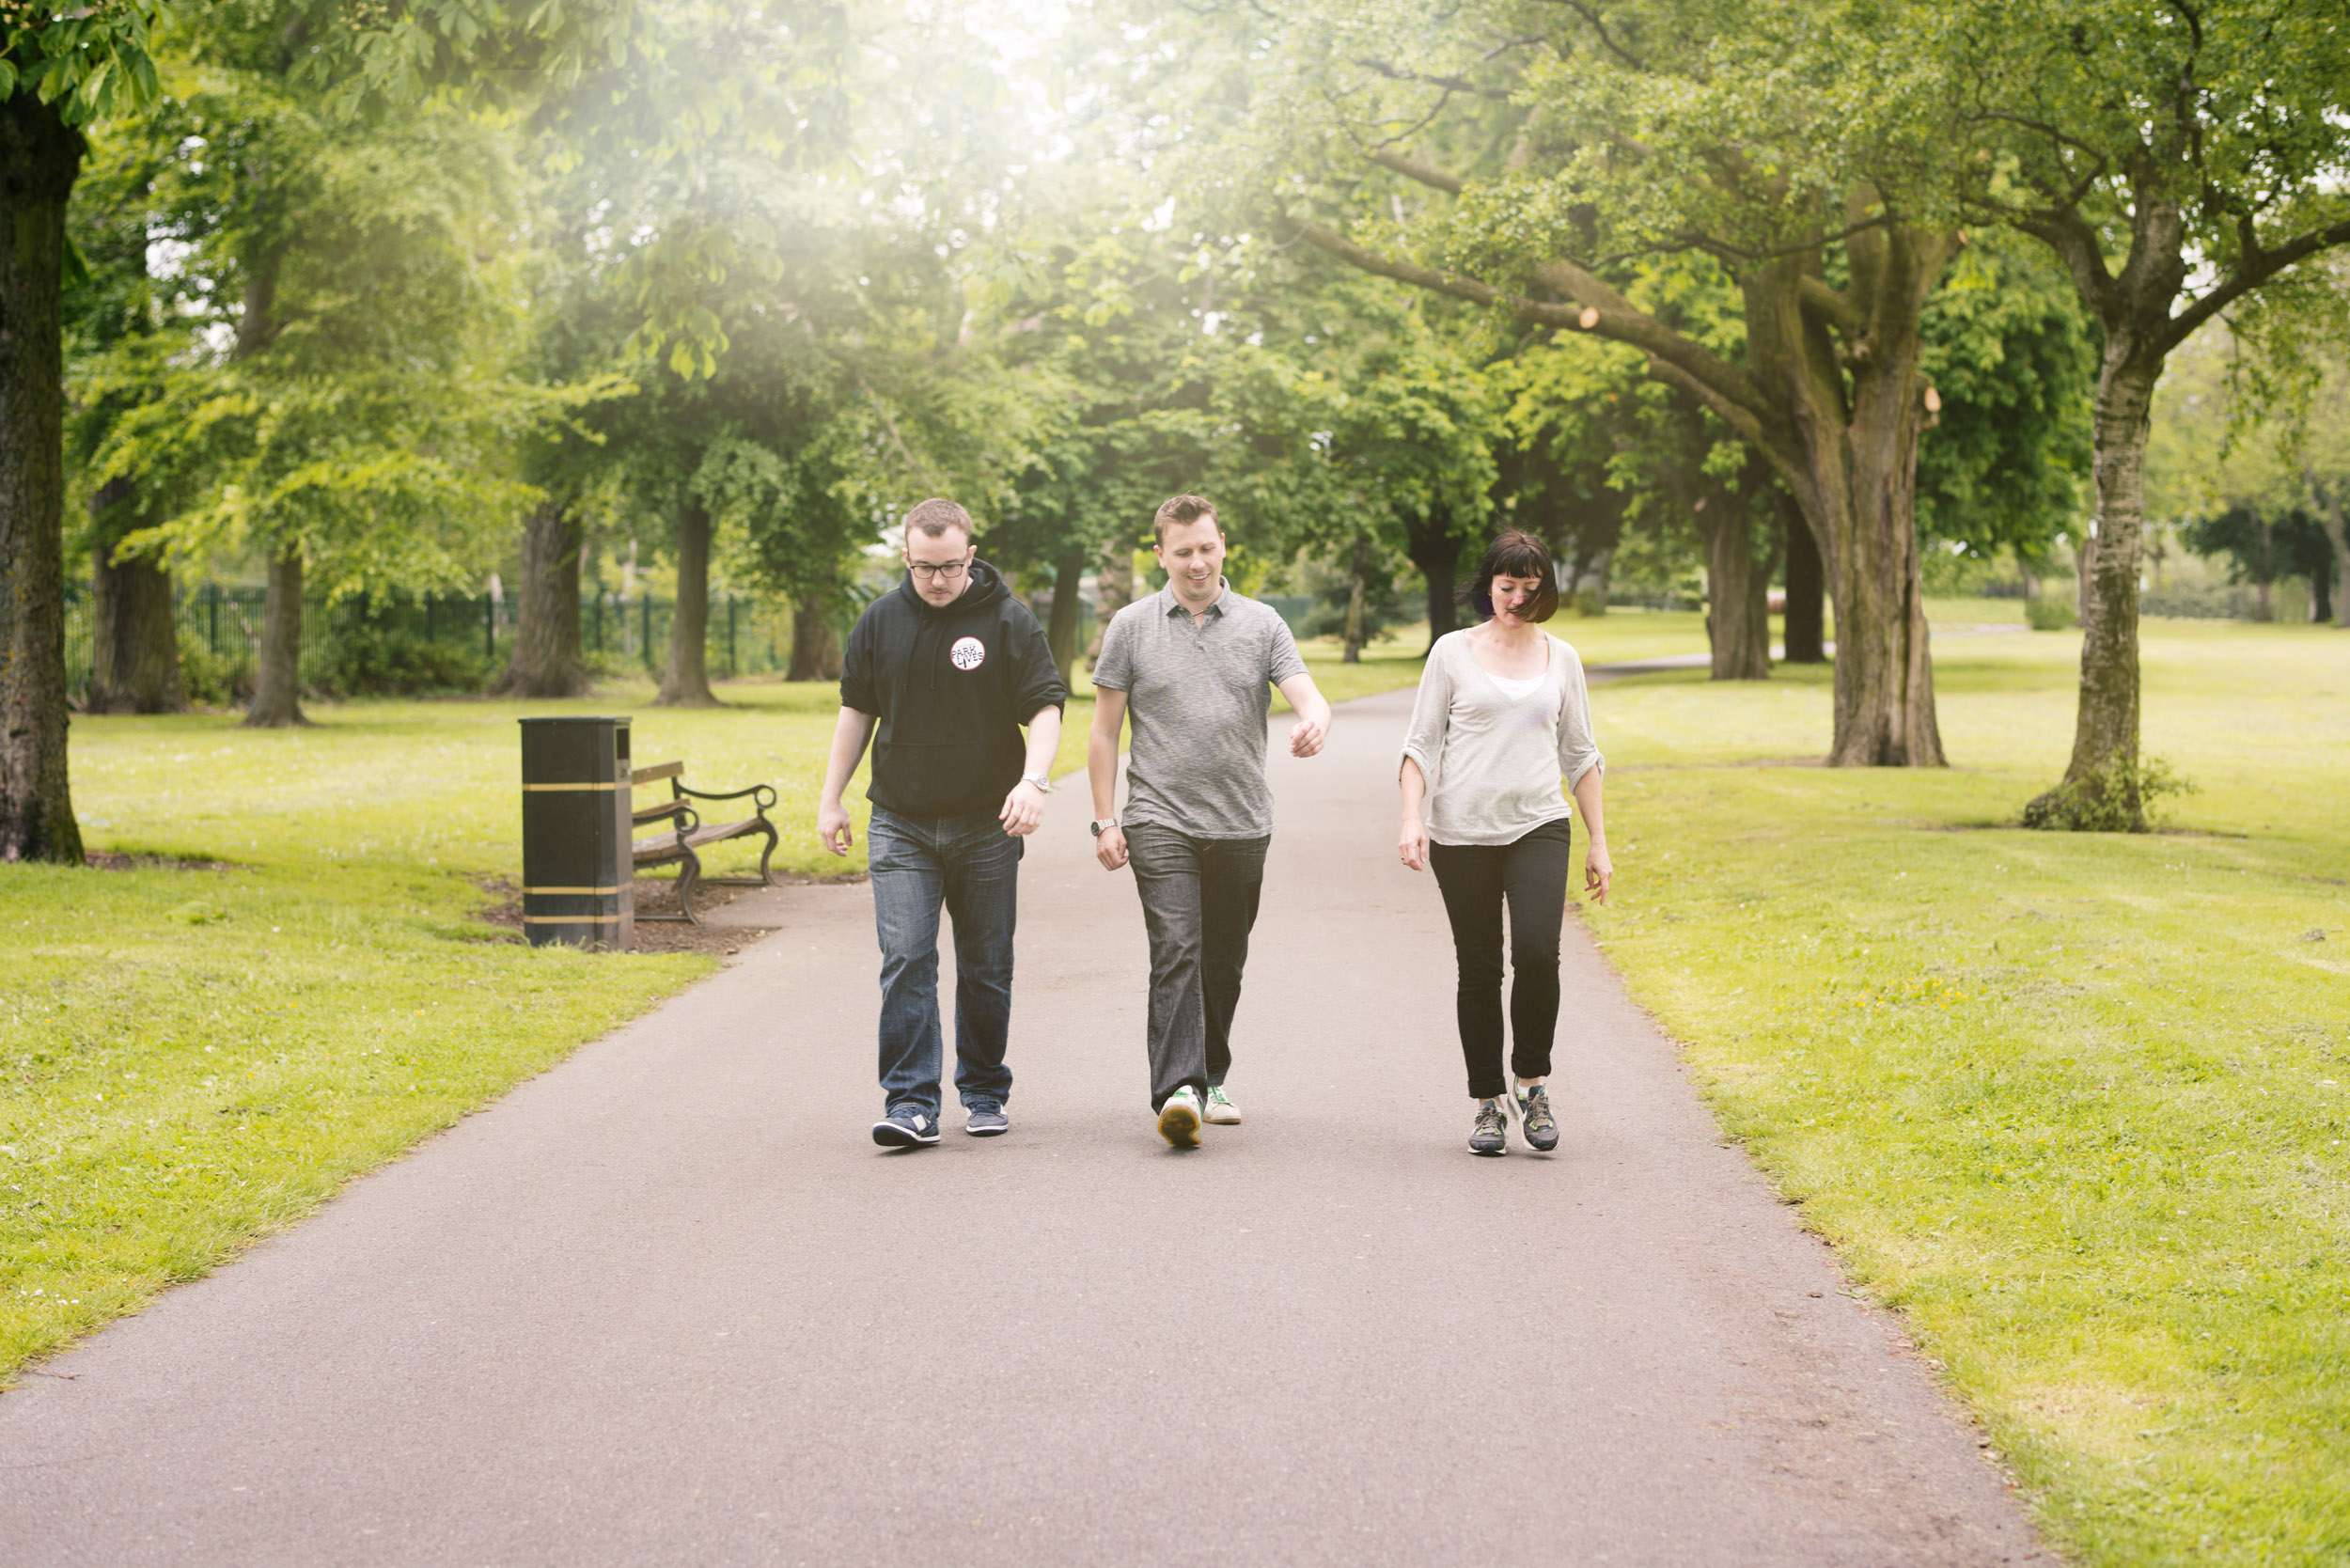Person: (791, 463, 1087, 1168), (1377, 523, 1684, 1184), (1065, 484, 1343, 1198)
